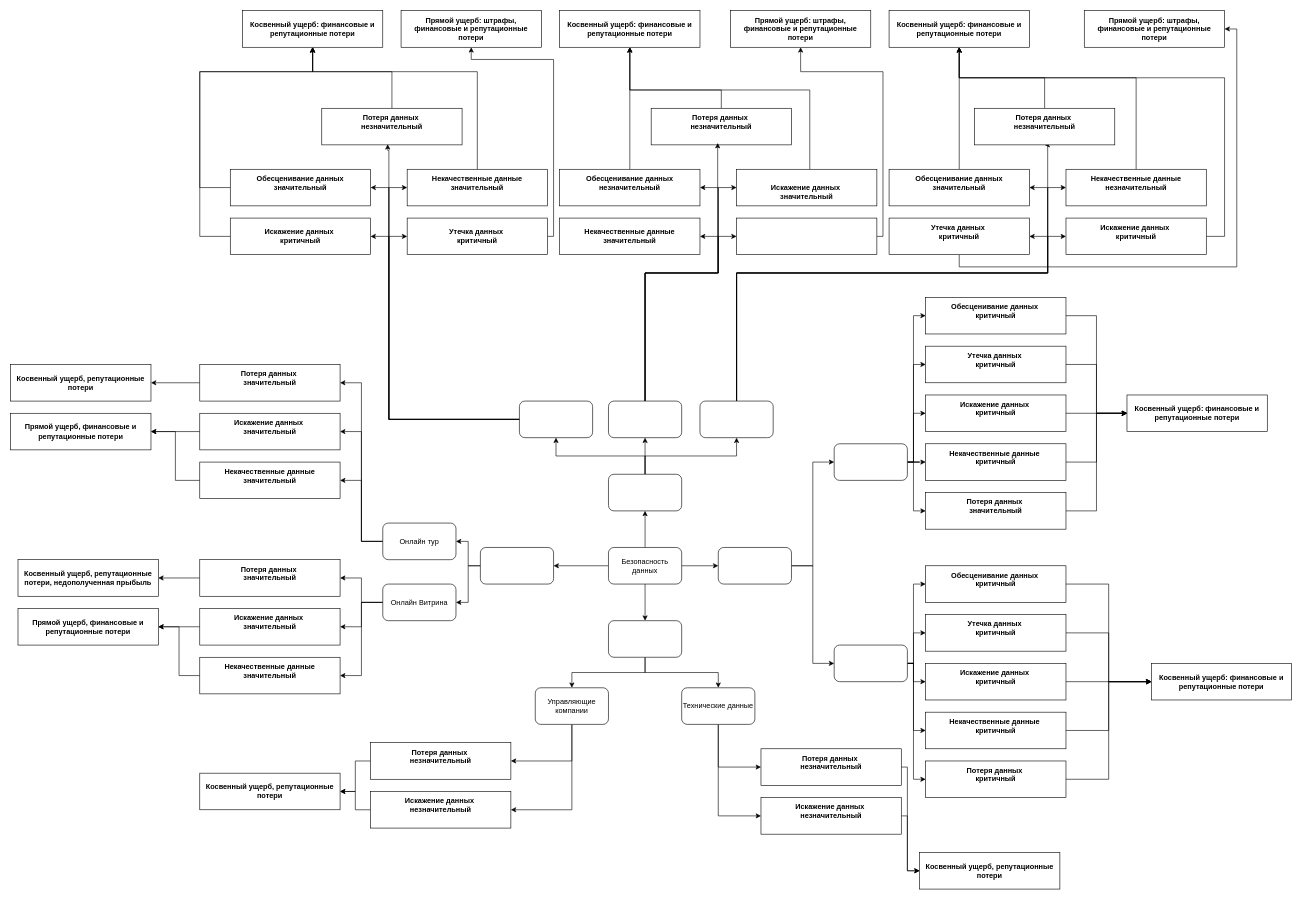
This 1302x900 diagram has some shape labels left out. Each missing label, with the centre of its shape:
Внутренние данные: [645,638]
Данные умного дома: [645,419]
Конфидециальные данные: [645,492]
Персональные данные клиентов: [556,419]
Публичные данные: [517,565]
Секретные данные: [754,565]
Собственники: [736,419]
Утечка данных значительный: [806,236]
Финансовые операции: [870,663]
Финансовые отчеты: [870,461]
